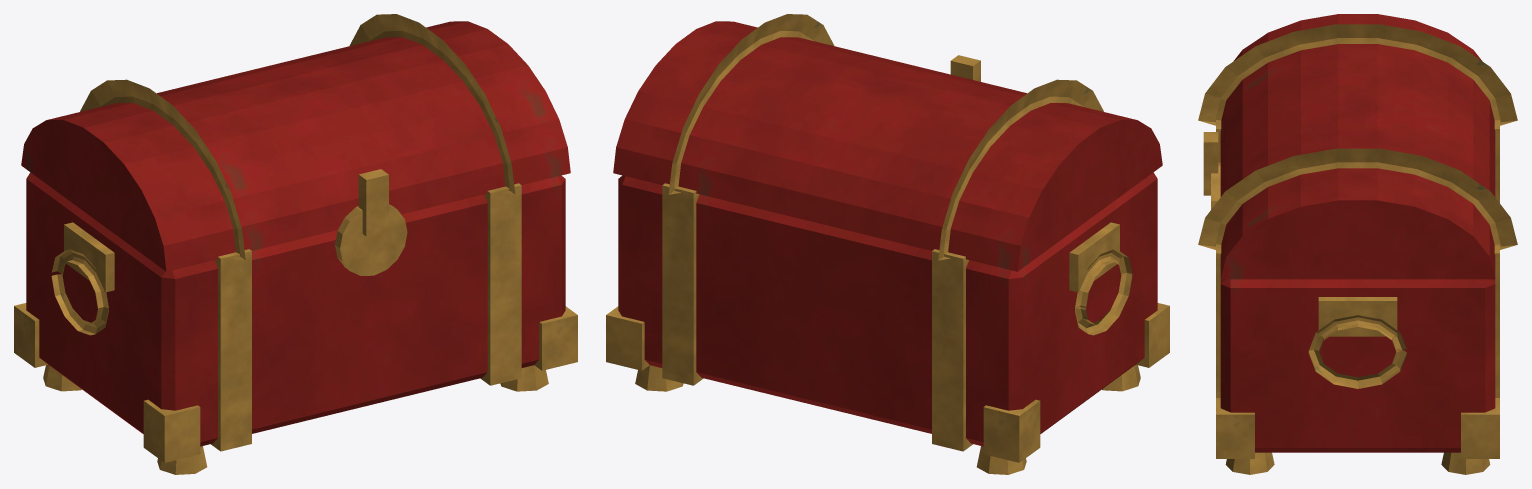
File: treasure_chest.glb
The picture shows the model from 3 angles, left to right: view 1: azimuth 30°, elevation 25°; view 2: azimuth 150°, elevation 25°; view 3: azimuth 270°, elevation 25°; orthographic projection. The views are drawn at different scales.
Visible parts, largest first — view 1: ChestBody, ChestFittings; view 2: ChestBody, ChestFittings; view 3: ChestBody, ChestFittings.
Part boxes in pixels (x1,y1,x2,y2): ChestBody: (21, 21, 570, 446); ChestFittings: (14, 14, 577, 474); ChestBody: (613, 21, 1162, 446); ChestFittings: (606, 14, 1169, 474); ChestBody: (1220, 14, 1495, 452); ChestFittings: (1198, 24, 1517, 474).
Size of what is drawn, in the model's own units: 0.984 by 0.6741 by 0.6524.
2 materials, 2 textured.
